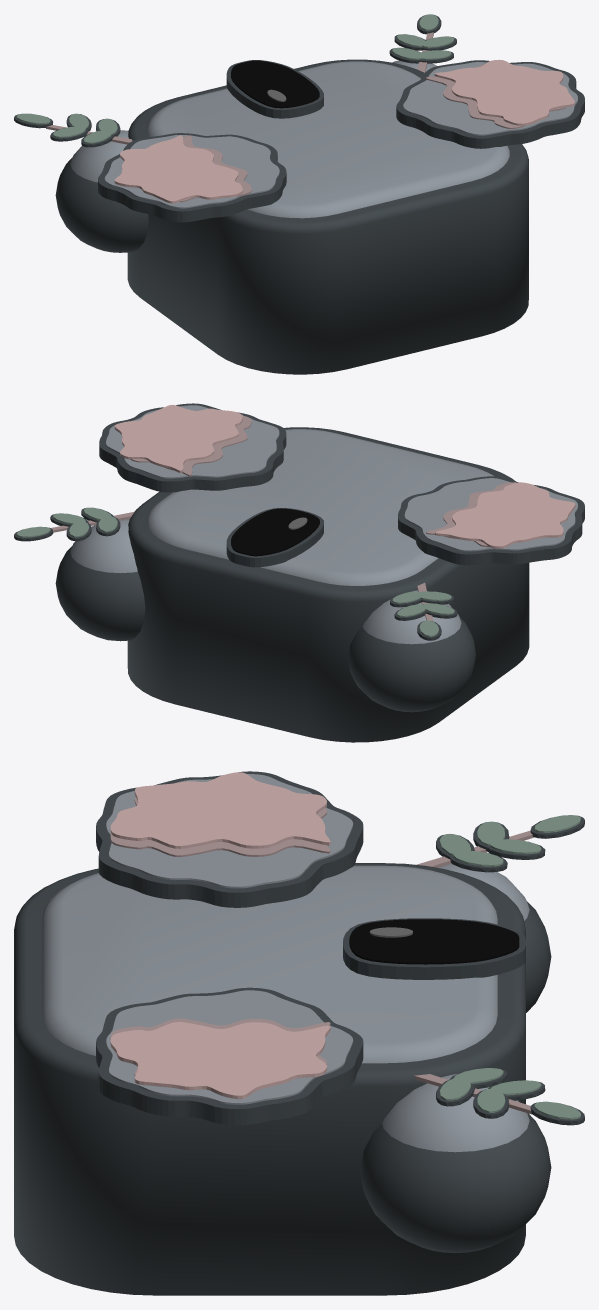
The model's file is body_coala.fbx.
3 renders of one model, top to bottom at view 1: azimuth 30°, elevation 25°; view 2: azimuth 150°, elevation 25°; view 3: azimuth 270°, elevation 25°, orthographic. The views are drawn at different scales.
Visible parts, largest first — view 1: body_coala_corpo, body_coala_mao_esq, body_coala_mao; view 2: body_coala_corpo, body_coala_mao_esq, body_coala_mao; view 3: body_coala_corpo, body_coala_mao, body_coala_mao_esq.
Part boxes in pixels (x1,y1,x2,y2): body_coala_corpo: [98, 59, 584, 374]; body_coala_mao_esq: [14, 113, 148, 252]; body_coala_mao: [389, 14, 456, 72]; body_coala_corpo: [99, 403, 584, 742]; body_coala_mao_esq: [348, 582, 476, 712]; body_coala_mao: [14, 507, 145, 641]; body_coala_corpo: [14, 771, 525, 1295]; body_coala_mao: [360, 1068, 584, 1252]; body_coala_mao_esq: [416, 815, 584, 1012].
Size of the model in its own units: 6.24 by 2.19 by 4.46.
1 material, 1 textured.
